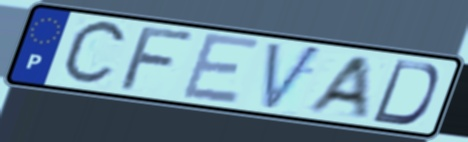A: (299, 55, 374, 119)
C: (57, 17, 131, 89)
D: (367, 58, 442, 128)
E: (177, 30, 264, 106)
F: (114, 25, 201, 93)
V: (260, 39, 327, 115)
